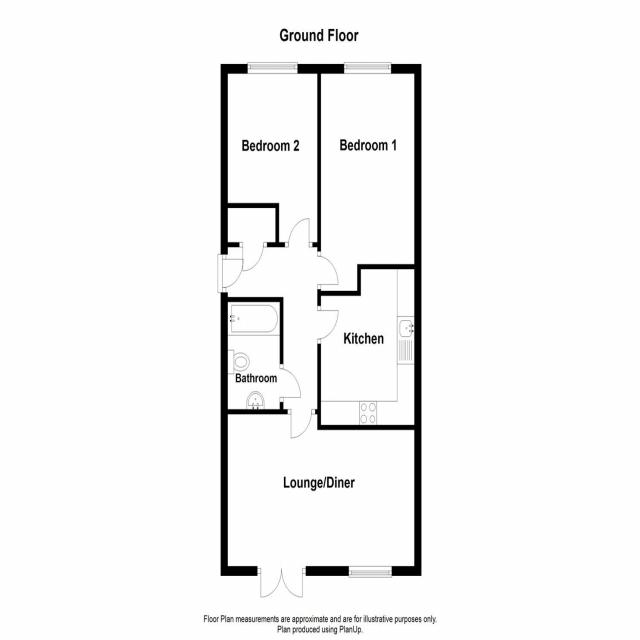DOOR: (218, 254, 245, 293), (317, 251, 340, 290), (285, 216, 313, 248), (280, 364, 303, 402), (317, 306, 340, 344), (287, 409, 316, 439), (239, 242, 267, 273)
DOUBLE DOOR: (257, 566, 306, 600)
ROOM: (318, 63, 422, 297), (220, 62, 321, 247), (317, 264, 422, 431)
WINDOW: (245, 59, 300, 77), (342, 60, 393, 76), (347, 564, 393, 579)
